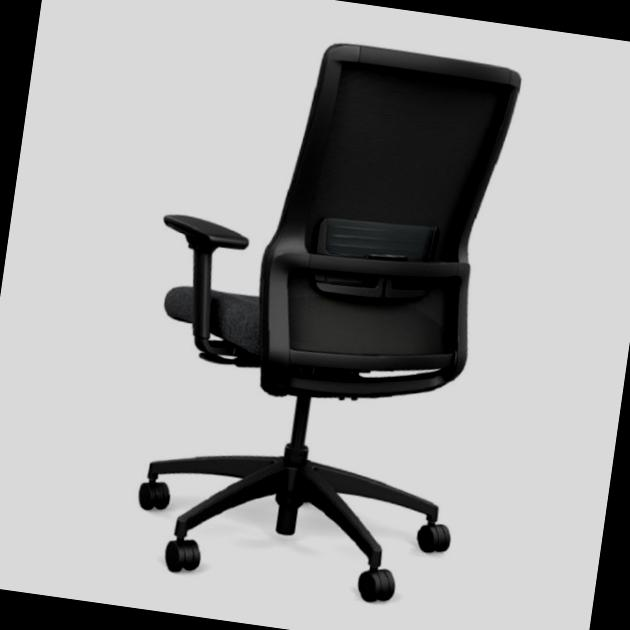chair: (112, 10, 544, 618)
